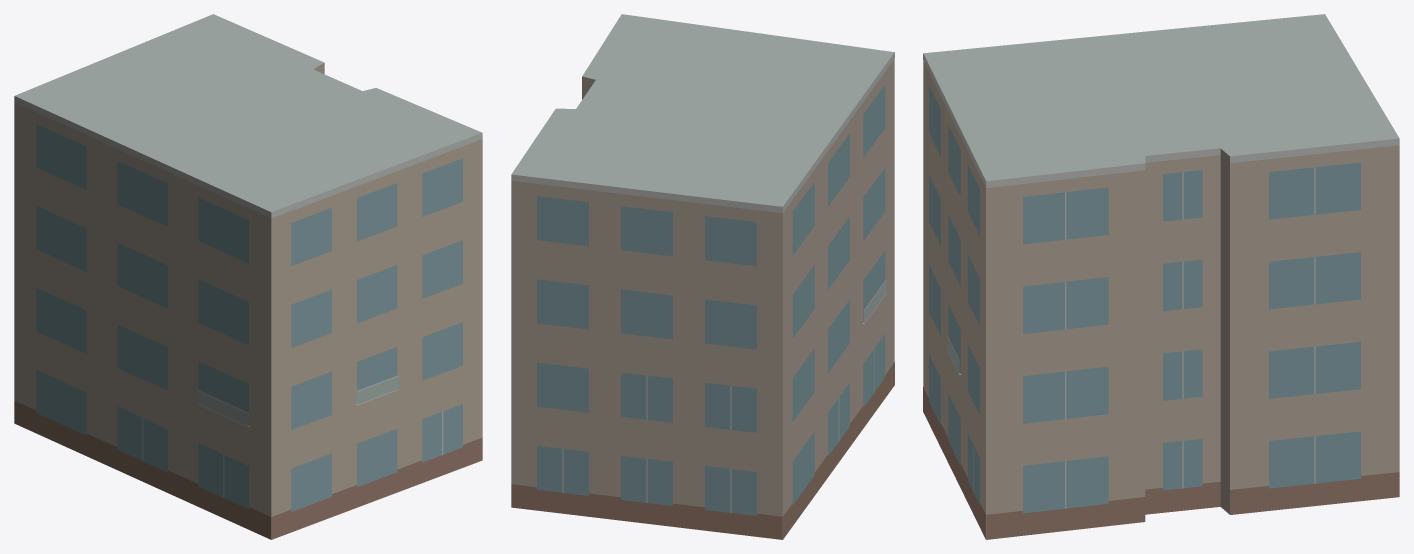
Rendered from survey-upis-32631663.glb.
3 renders of one model, left to right at view 1: azimuth 30°, elevation 25°; view 2: azimuth 150°, elevation 25°; view 3: azimuth 270°, elevation 25°, orthographic. The views are drawn at different scales.
Visible parts, largest first — view 1: survey-upis-32631663.tmp; view 2: survey-upis-32631663.tmp; view 3: survey-upis-32631663.tmp.
Part boxes in pixels (box(x1,y1,x2,y2)): survey-upis-32631663.tmp: box(14, 14, 482, 539); survey-upis-32631663.tmp: box(511, 14, 894, 539); survey-upis-32631663.tmp: box(923, 14, 1399, 539).
Bounding box in the file's own units: 12.82 × 12.8 × 15.43.
